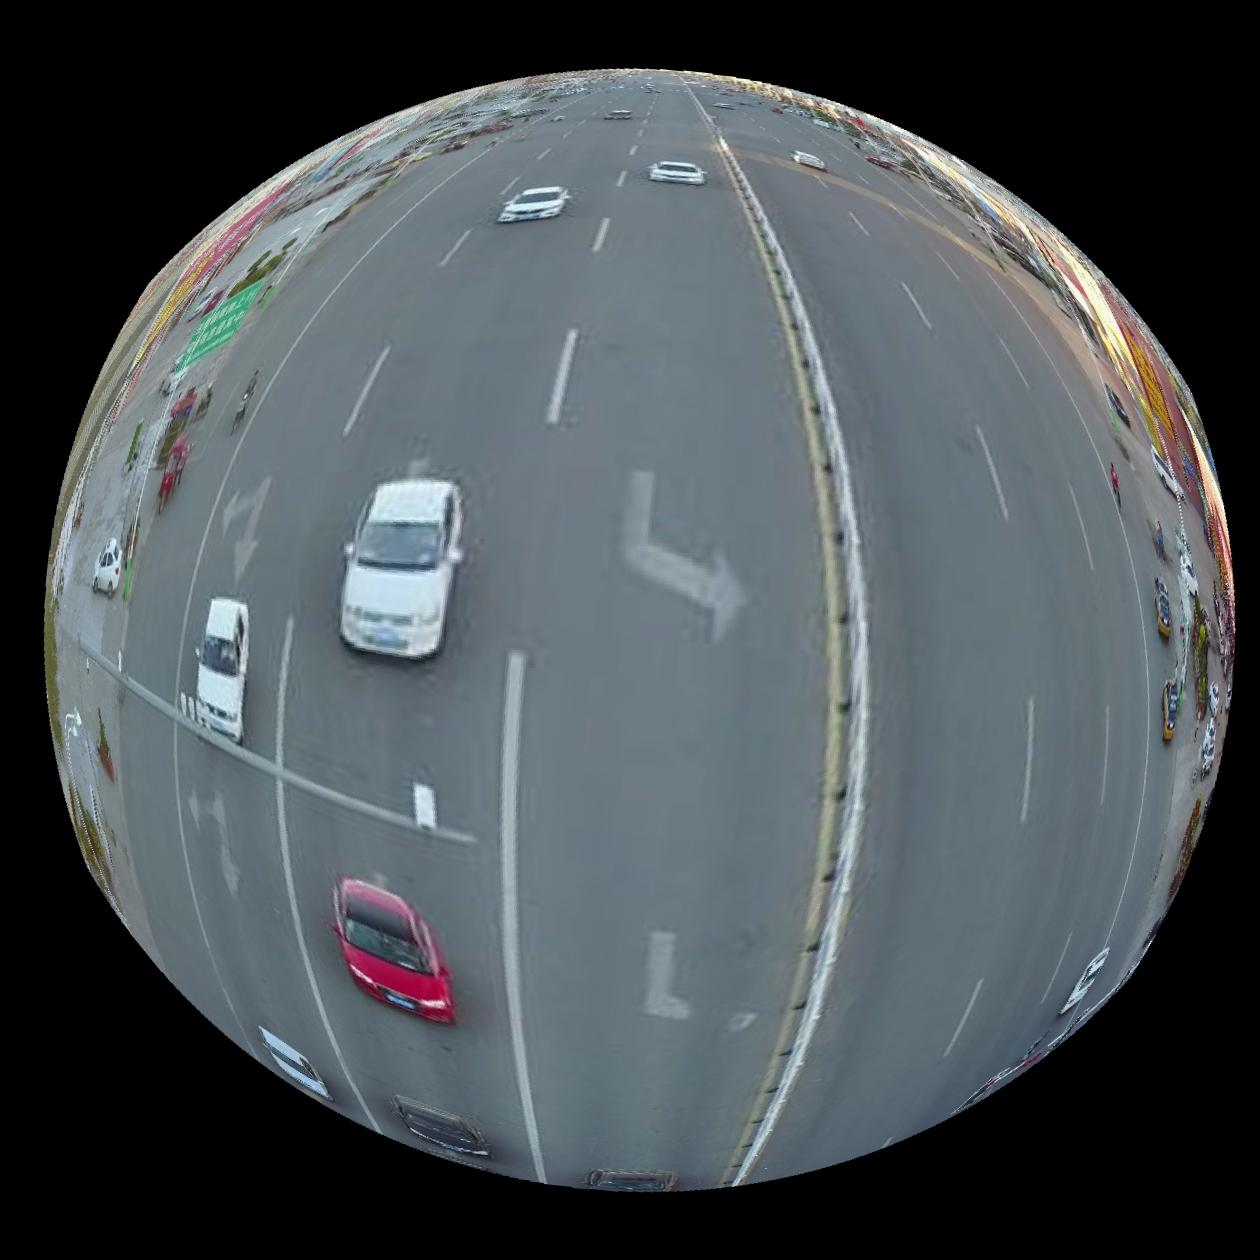cars: (340, 478, 463, 659), (330, 879, 455, 1025), (195, 597, 248, 744), (392, 1097, 490, 1160), (258, 1029, 331, 1102), (1061, 949, 1112, 1016), (497, 186, 570, 221), (586, 1171, 678, 1194), (90, 538, 121, 596), (648, 159, 707, 184), (792, 149, 828, 170)
